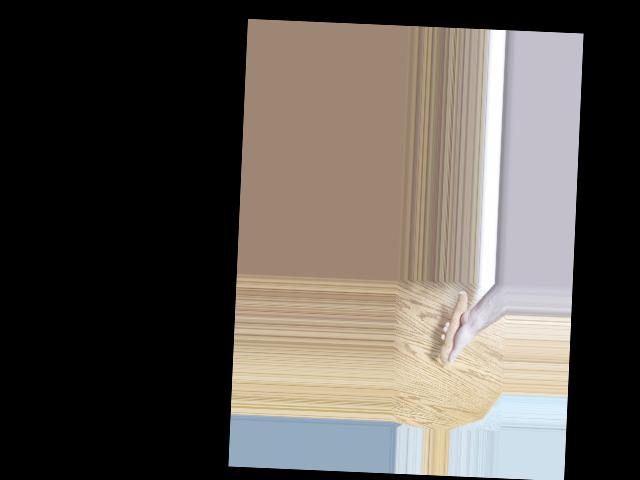sweet_potato: (439, 289, 469, 365)
